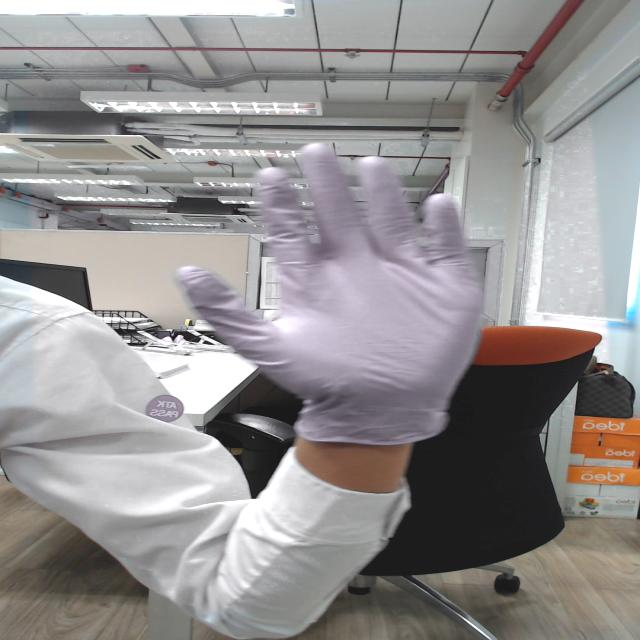glove: (148, 120, 538, 408)
